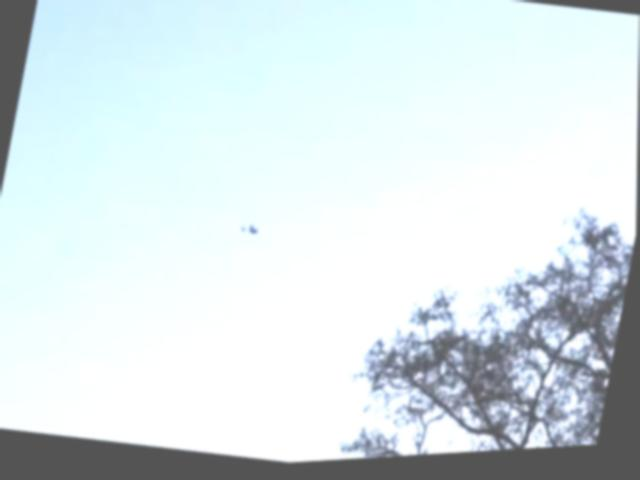uav: (238, 221, 263, 242)
